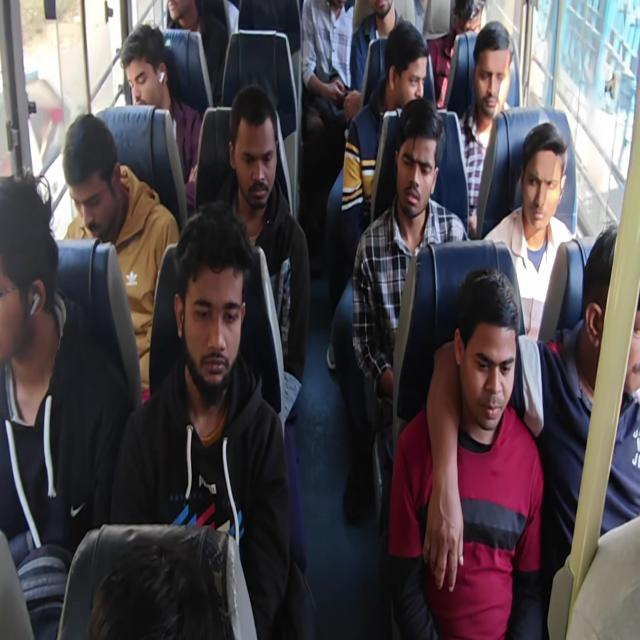person: (0, 174, 63, 372), (97, 536, 206, 640), (169, 240, 236, 381), (586, 236, 640, 406), (63, 120, 122, 237), (461, 303, 514, 414), (516, 130, 559, 237), (229, 112, 277, 195), (386, 36, 432, 121), (115, 38, 162, 113), (399, 128, 433, 218), (479, 34, 506, 119), (452, 0, 487, 52), (161, 0, 200, 38), (361, 0, 401, 29)
